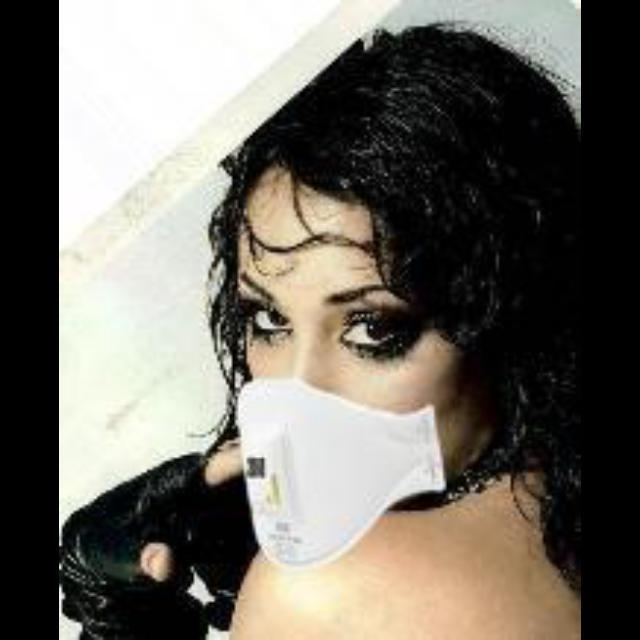suspicion: (178, 140, 542, 610)
